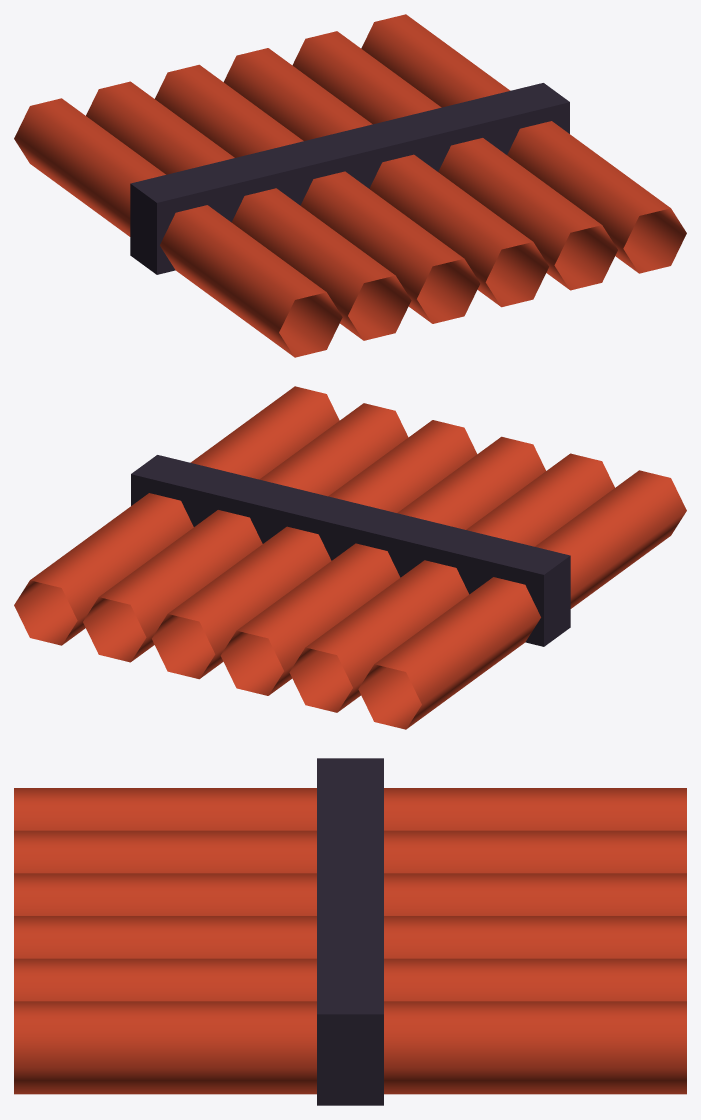
Rendered from Cables6-Straight_20cm_01.fbx.
The picture shows the model from 3 angles, top to bottom: view 1: azimuth 30°, elevation 25°; view 2: azimuth 150°, elevation 25°; view 3: azimuth 270°, elevation 25°; orthographic projection. The views are drawn at different scales.
Visible parts, largest first — view 1: Cables6-Straight_20cm_01; view 2: Cables6-Straight_20cm_01; view 3: Cables6-Straight_20cm_01.
Part boxes in pixels (left/top/right/bottom): Cables6-Straight_20cm_01: left=14, top=14, right=686, bottom=357; Cables6-Straight_20cm_01: left=14, top=386, right=686, bottom=729; Cables6-Straight_20cm_01: left=14, top=758, right=686, bottom=1105.
Bounding box in the file's own units: 0.18 × 0.03 × 0.2.
